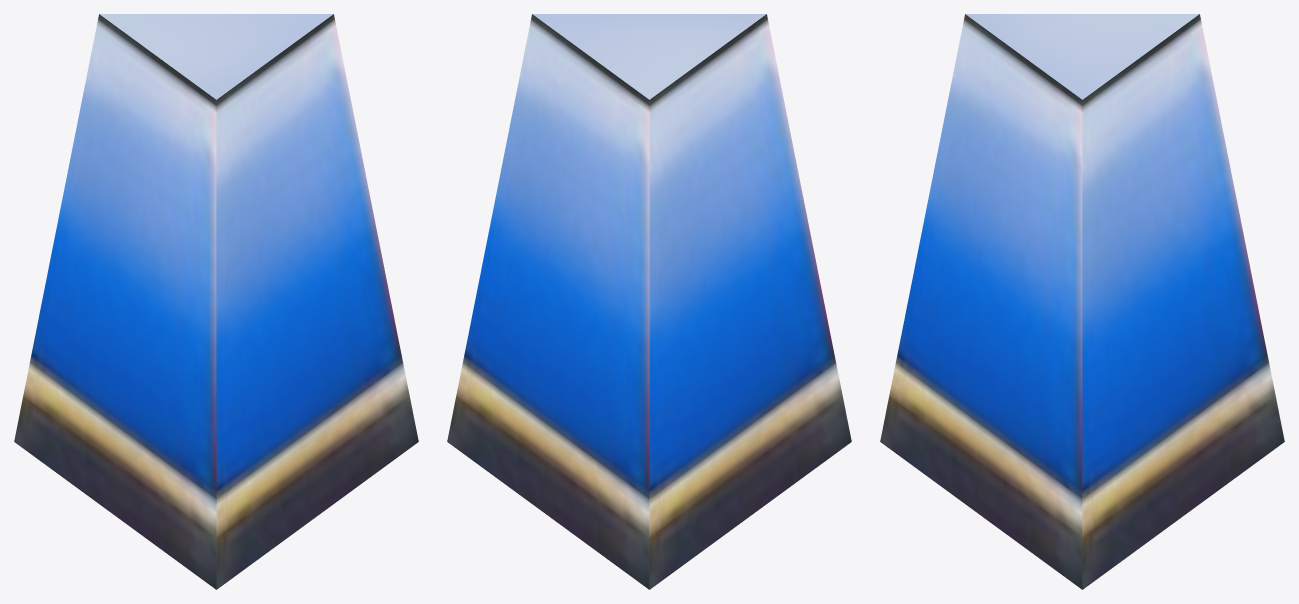
File: bluebeaconlight_hdtex.glb
3 renders of one model, left to right at view 1: azimuth 30°, elevation 25°; view 2: azimuth 150°, elevation 25°; view 3: azimuth 270°, elevation 25°, orthographic.
Parts seen in each view (by area): view 1: Cylinder01; view 2: Cylinder01; view 3: Cylinder01.
Part boxes in pixels (bbox=[...]): Cylinder01: bbox=[14, 14, 418, 589]; Cylinder01: bbox=[447, 14, 851, 589]; Cylinder01: bbox=[880, 14, 1284, 589].
Size of the model in its own units: 0.4029 by 0.569 by 0.4653.
Materials: 1 (1 with a texture image).
